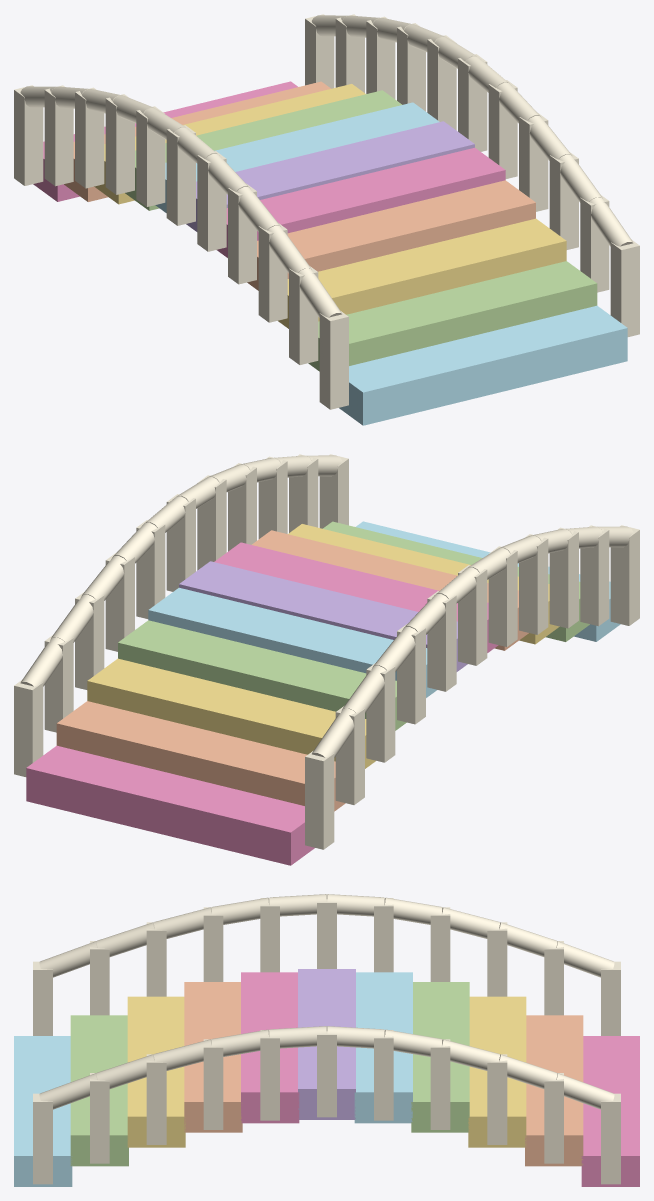
File: st_candy_bridge.glb
3 renders of one model, top to bottom at view 1: azimuth 30°, elevation 25°; view 2: azimuth 150°, elevation 25°; view 3: azimuth 270°, elevation 25°, orthographic. The views are drawn at different scales.
Visible parts, largest first — view 1: Rainbow_Candy_Bridge; view 2: Rainbow_Candy_Bridge; view 3: Rainbow_Candy_Bridge.
Boxes of the visible parts, x1=… form: Rainbow_Candy_Bridge: x1=14, y1=14, x2=639, y2=425; Rainbow_Candy_Bridge: x1=14, y1=454, x2=639, y2=865; Rainbow_Candy_Bridge: x1=14, y1=894, x2=639, y2=1186.
Bounding box in the file's own units: 1.17 × 0.6449 × 2.2.
